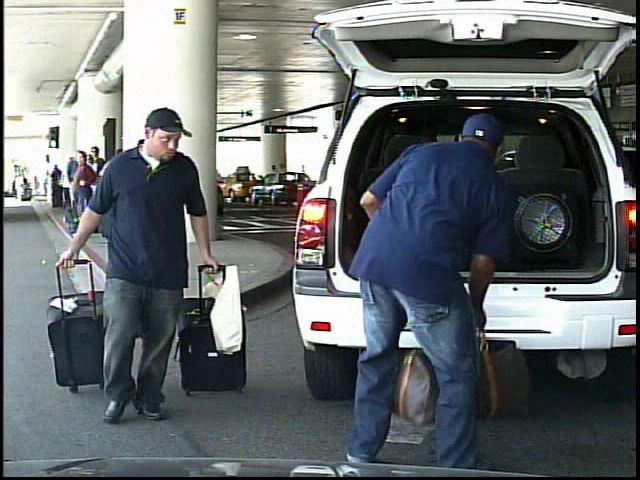person: (336, 104, 523, 476), (76, 109, 234, 432), (275, 162, 286, 196), (14, 170, 25, 202)
